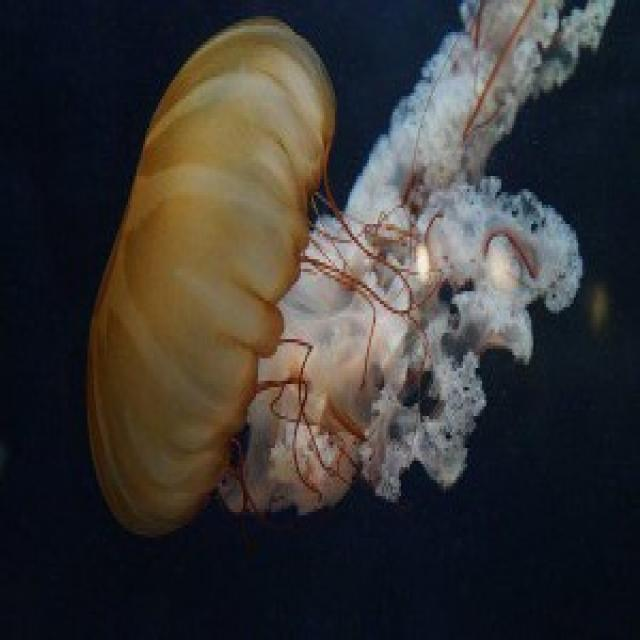Jellyfish: (82, 10, 636, 549)
